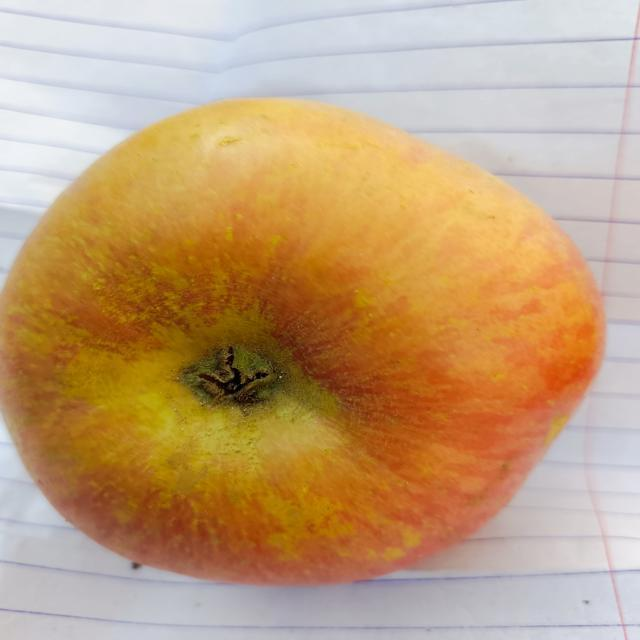Fresh Apple: (21, 112, 602, 610)
